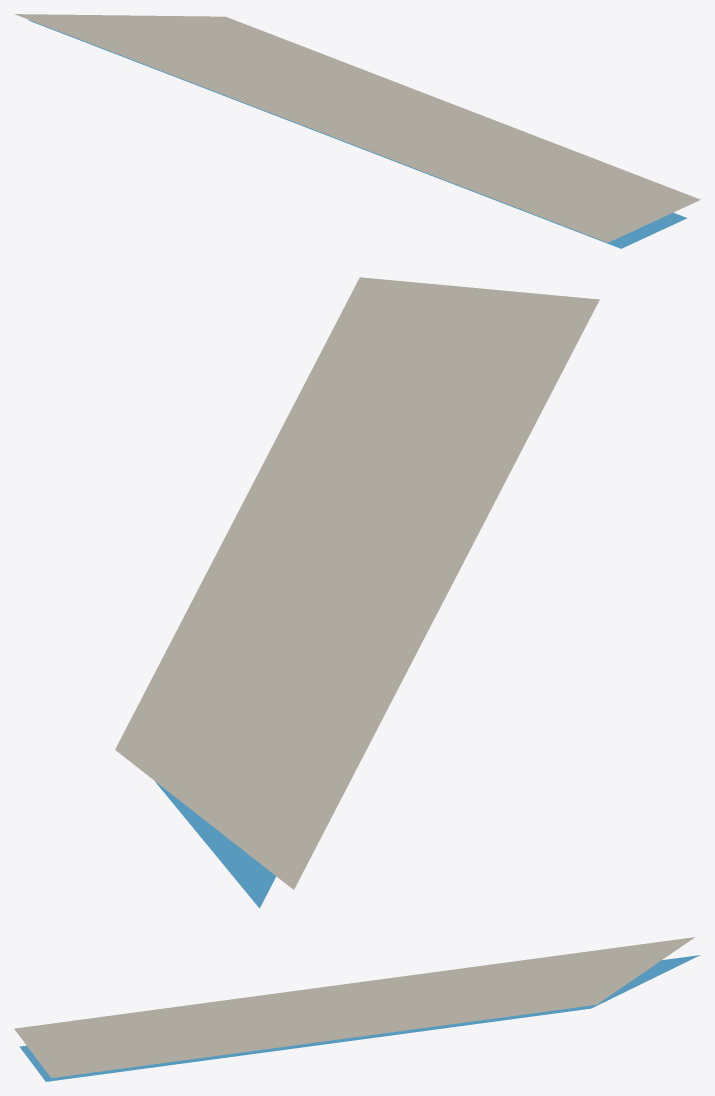
3 views of the same model, one above another, from view 1: azimuth 30°, elevation 25°; view 2: azimuth 150°, elevation 25°; view 3: azimuth 270°, elevation 25° (orthographic). The views are drawn at different scales.
Parts seen in each view (by area): view 1: estructura_terreno, estructura_agua; view 2: estructura_terreno, estructura_agua; view 3: estructura_terreno, estructura_agua.
Part boxes in pixels (x1,y1,x2,y2): estructura_terreno: [14, 14, 700, 242]; estructura_agua: [27, 20, 687, 248]; estructura_terreno: [115, 277, 599, 889]; estructura_agua: [154, 780, 276, 908]; estructura_terreno: [14, 937, 694, 1077]; estructura_agua: [19, 955, 700, 1081].
Size of the model in its own units: 11.41 by 0.41 by 23.47.
